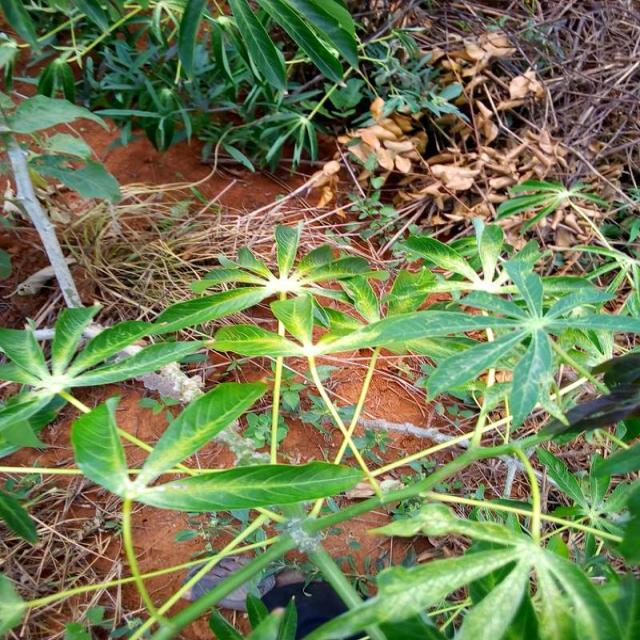cassava leaf: (135, 378, 270, 489)
